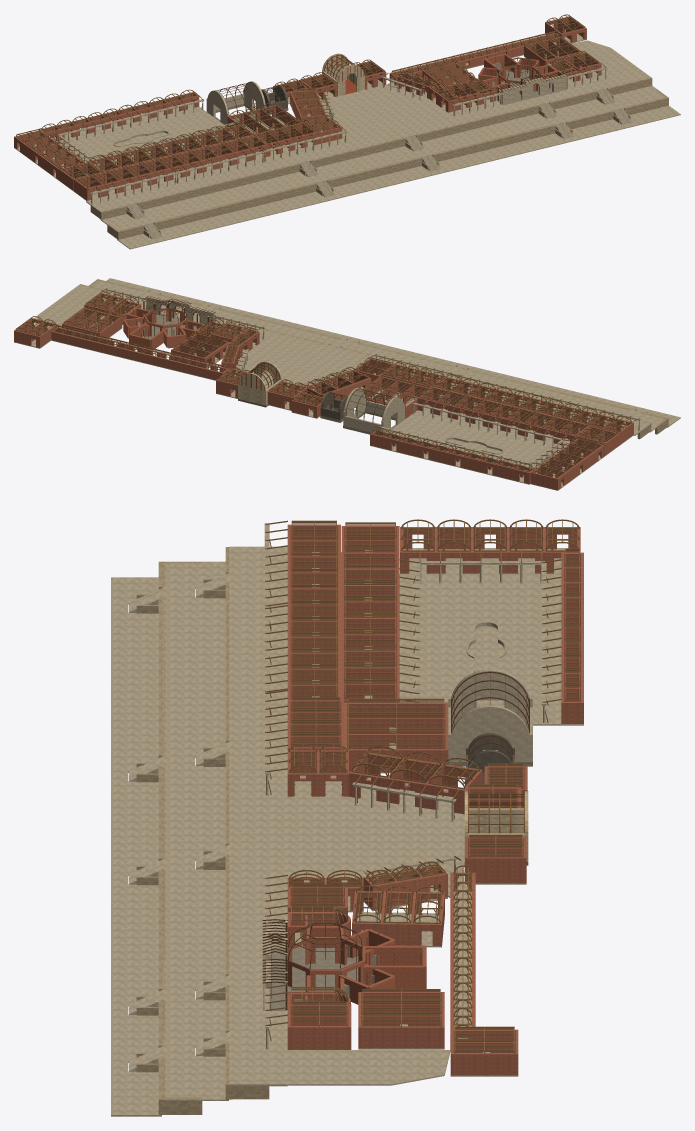
File: oppian_s1.glb
The picture shows the model from 3 angles, top to bottom: view 1: azimuth 30°, elevation 25°; view 2: azimuth 150°, elevation 25°; view 3: azimuth 270°, elevation 25°; orthographic projection. The views are drawn at different scales.
Visible parts, largest first — view 1: S1_terraces, S1_court-wings, S1_west-peristyle, S1_octagon, S1_south-portico, S1_west-axis-44-45, S1_cryptoporticus-92, S1_golden-vault-80, S1_west-basin, S1_achilles-119; view 2: S1_west-peristyle, S1_court-wings, S1_terraces, S1_octagon, S1_cryptoporticus-92, S1_west-axis-44-45, S1_south-portico, S1_golden-vault-80, S1_west-basin, S1_hector-129; view 3: S1_terraces, S1_court-wings, S1_west-peristyle, S1_octagon, S1_west-axis-44-45, S1_cryptoporticus-92, S1_south-portico, S1_west-basin, S1_golden-vault-80, S1_achilles-119.
Part boxes in pixels (left/top/right/bottom): S1_terraces: left=86, top=66, right=680, bottom=249; S1_court-wings: left=227, top=14, right=636, bottom=156; S1_west-peristyle: left=14, top=89, right=267, bottom=200; S1_octagon: left=478, top=54, right=566, bottom=105; S1_south-portico: left=86, top=62, right=607, bottom=204; S1_west-axis-44-45: left=206, top=81, right=288, bottom=126; S1_cryptoporticus-92: left=389, top=30, right=559, bottom=85; S1_golden-vault-80: left=322, top=53, right=364, bottom=96; S1_west-basin: left=105, top=127, right=176, bottom=150; S1_achilles-119: left=468, top=78, right=495, bottom=104; S1_west-peristyle: left=370, top=374, right=633, bottom=490; S1_court-wings: left=14, top=291, right=445, bottom=418; S1_terraces: left=65, top=278, right=680, bottom=439; S1_octagon: left=123, top=296, right=215, bottom=349; S1_cryptoporticus-92: left=51, top=324, right=229, bottom=380; S1_west-axis-44-45: left=320, top=387, right=404, bottom=435; S1_south-portico: left=101, top=288, right=641, bottom=430; S1_golden-vault-80: left=238, top=361, right=282, bottom=407; S1_west-basin: left=437, top=433, right=511, bottom=458; S1_hector-129: left=112, top=296, right=140, bottom=324; S1_terraces: left=111, top=546, right=287, bottom=1116; S1_court-wings: left=287, top=697, right=527, bottom=1085; S1_west-peristyle: left=287, top=519, right=583, bottom=725; S1_octagon: left=262, top=919, right=426, bottom=1010; S1_west-axis-44-45: left=448, top=669, right=532, bottom=784; S1_cryptoporticus-92: left=450, top=865, right=475, bottom=1051; S1_south-portico: left=264, top=520, right=287, bottom=1049; S1_west-basin: left=459, top=620, right=513, bottom=678; S1_golden-vault-80: left=464, top=791, right=528, bottom=865; S1_achilles-119: left=287, top=905, right=350, bottom=946.
Bounding box in the file's own units: 233 × 17.6 × 86.48.
22 materials, 14 textured.
